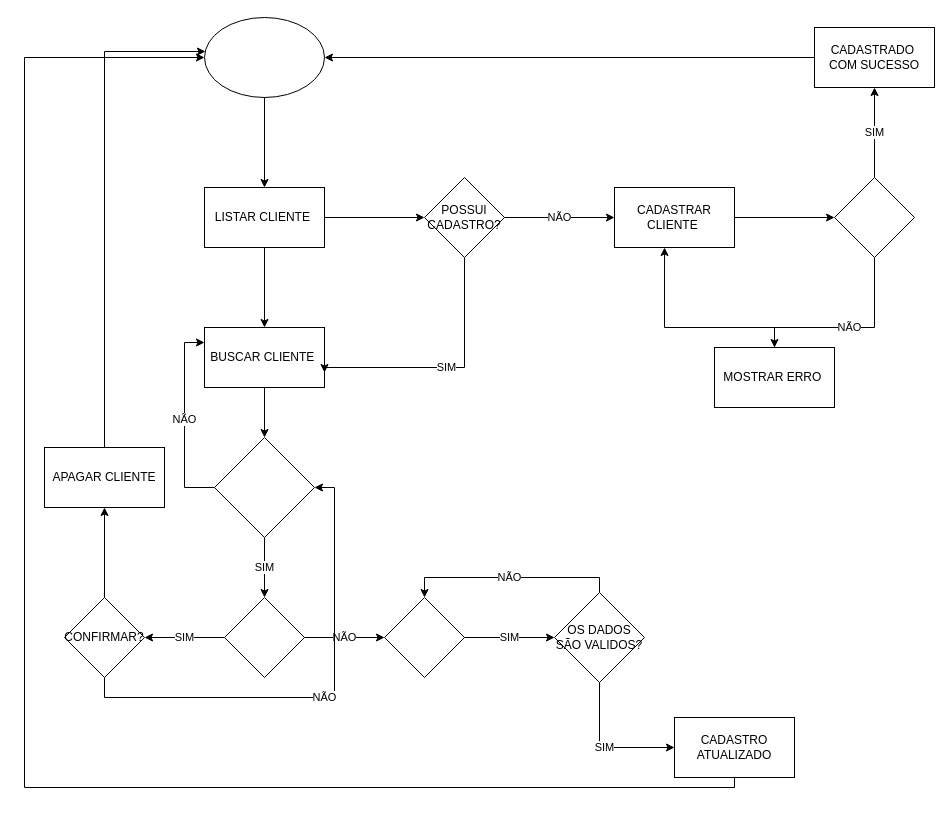
Some shapes in this 952 by 813 pixel diagram are drawn without their labels. The centre of each missing label's shape, as x and y in pixels:
APAGAR?: the point at 264,637
ATUALIZAR?: the point at 424,637
CLIENTE ENCONTRADO?: the point at 264,487
INICIO: the point at 264,57
É VALIDO?: the point at 874,217
